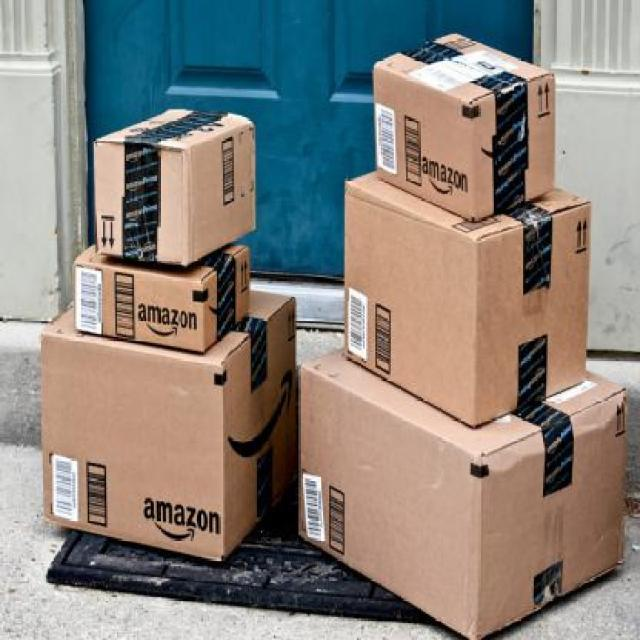box: (293, 318, 633, 640), (36, 280, 302, 566), (344, 159, 593, 436), (372, 30, 554, 224), (94, 105, 255, 266), (71, 240, 252, 358)
